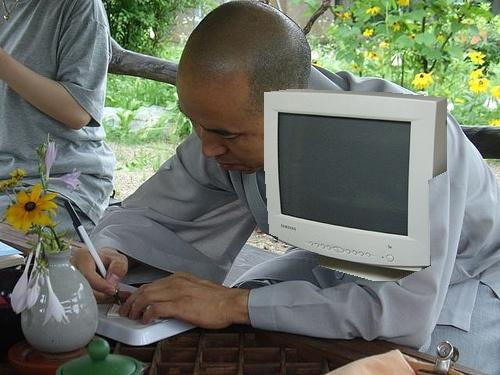tampered: (265, 90, 447, 281)
